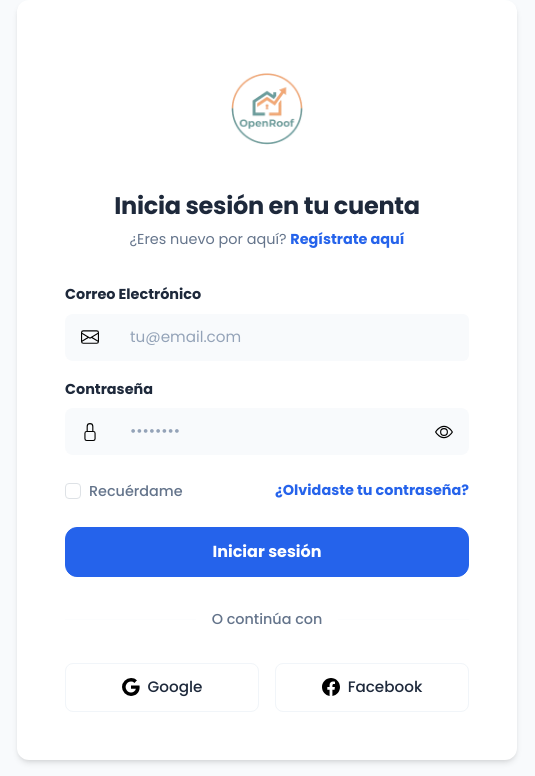
Test: Login Form Validation Flow › debe mostrar un error si el formato del correo es inválido
// Escribir correo sin formato correcto
Step 1. Type "correo-invalido-sin-arroba" into the field named "email" → (292, 338), box x1=114 y1=314 x2=469 y2=361
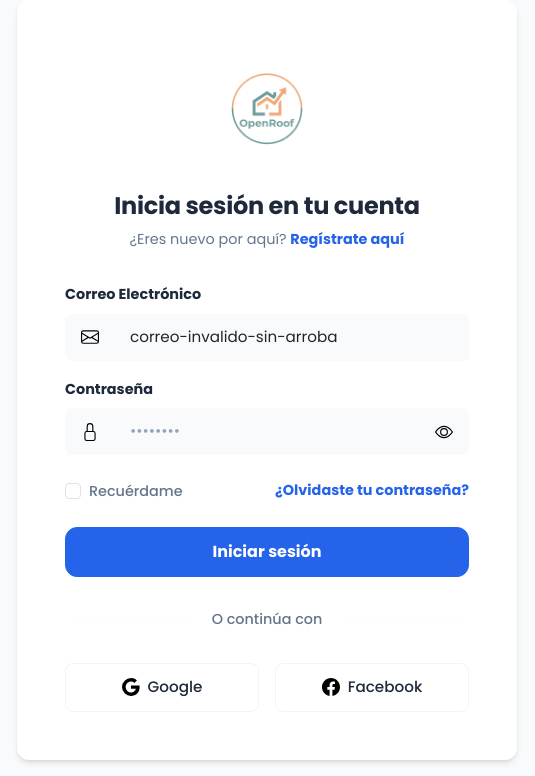
Step 2. Type "123456" into the password field named "password" → (267, 432), box x1=114 y1=408 x2=420 y2=455
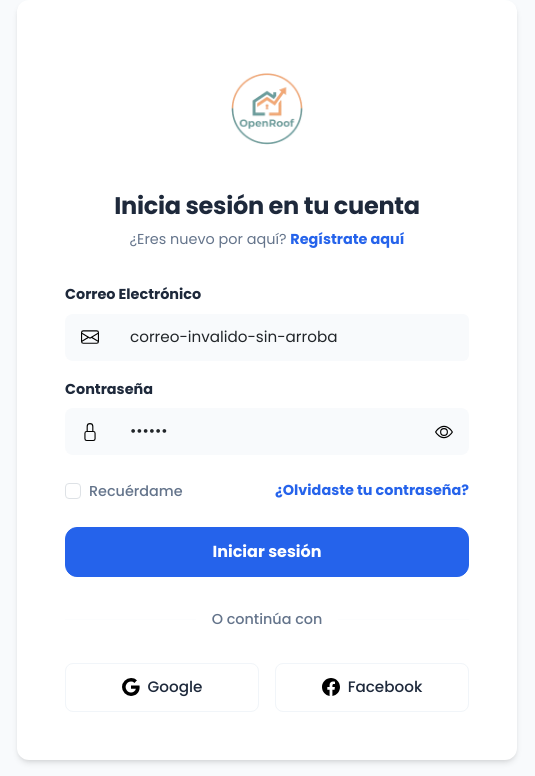
// Intentar submit
Step 3. Click the submit button → (267, 552), box x1=65 y1=527 x2=469 y2=577
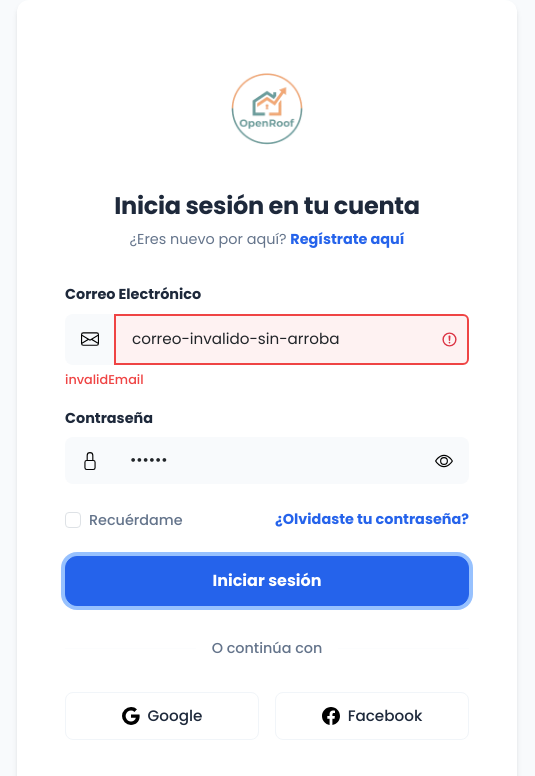
Expected: the text with class "field-error-msg" reads "invalidEmail", x1=65 y1=371 x2=144 y2=388
